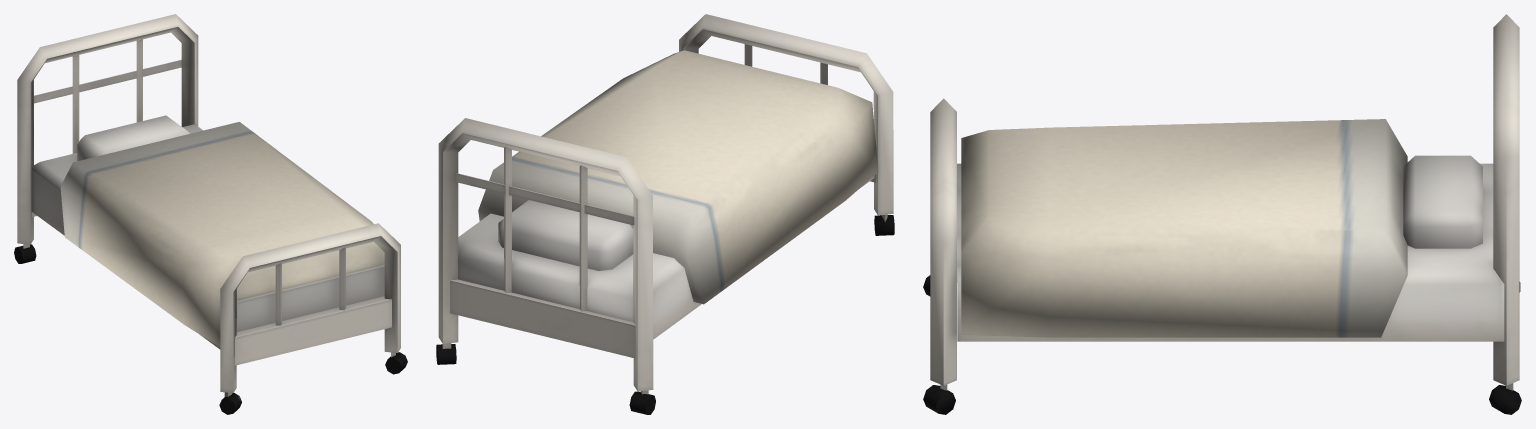
File: sb_obj_ModernCity064_hospital_bed.fbx
3 renders of one model, left to right at view 1: azimuth 30°, elevation 25°; view 2: azimuth 150°, elevation 25°; view 3: azimuth 270°, elevation 25°, orthographic. The views are drawn at different scales.
Visible parts, largest first — view 1: sb_obj_ModernCity064_hospital_bed; view 2: sb_obj_ModernCity064_hospital_bed; view 3: sb_obj_ModernCity064_hospital_bed.
Part boxes in pixels (<box>): sb_obj_ModernCity064_hospital_bed: <box>14,14,407,414</box>; sb_obj_ModernCity064_hospital_bed: <box>436,14,894,414</box>; sb_obj_ModernCity064_hospital_bed: <box>923,14,1521,414</box>.
Bounding box in the file's own units: 0.8548 × 0.9075 × 1.67.
Materials: 1 (1 with a texture image).
